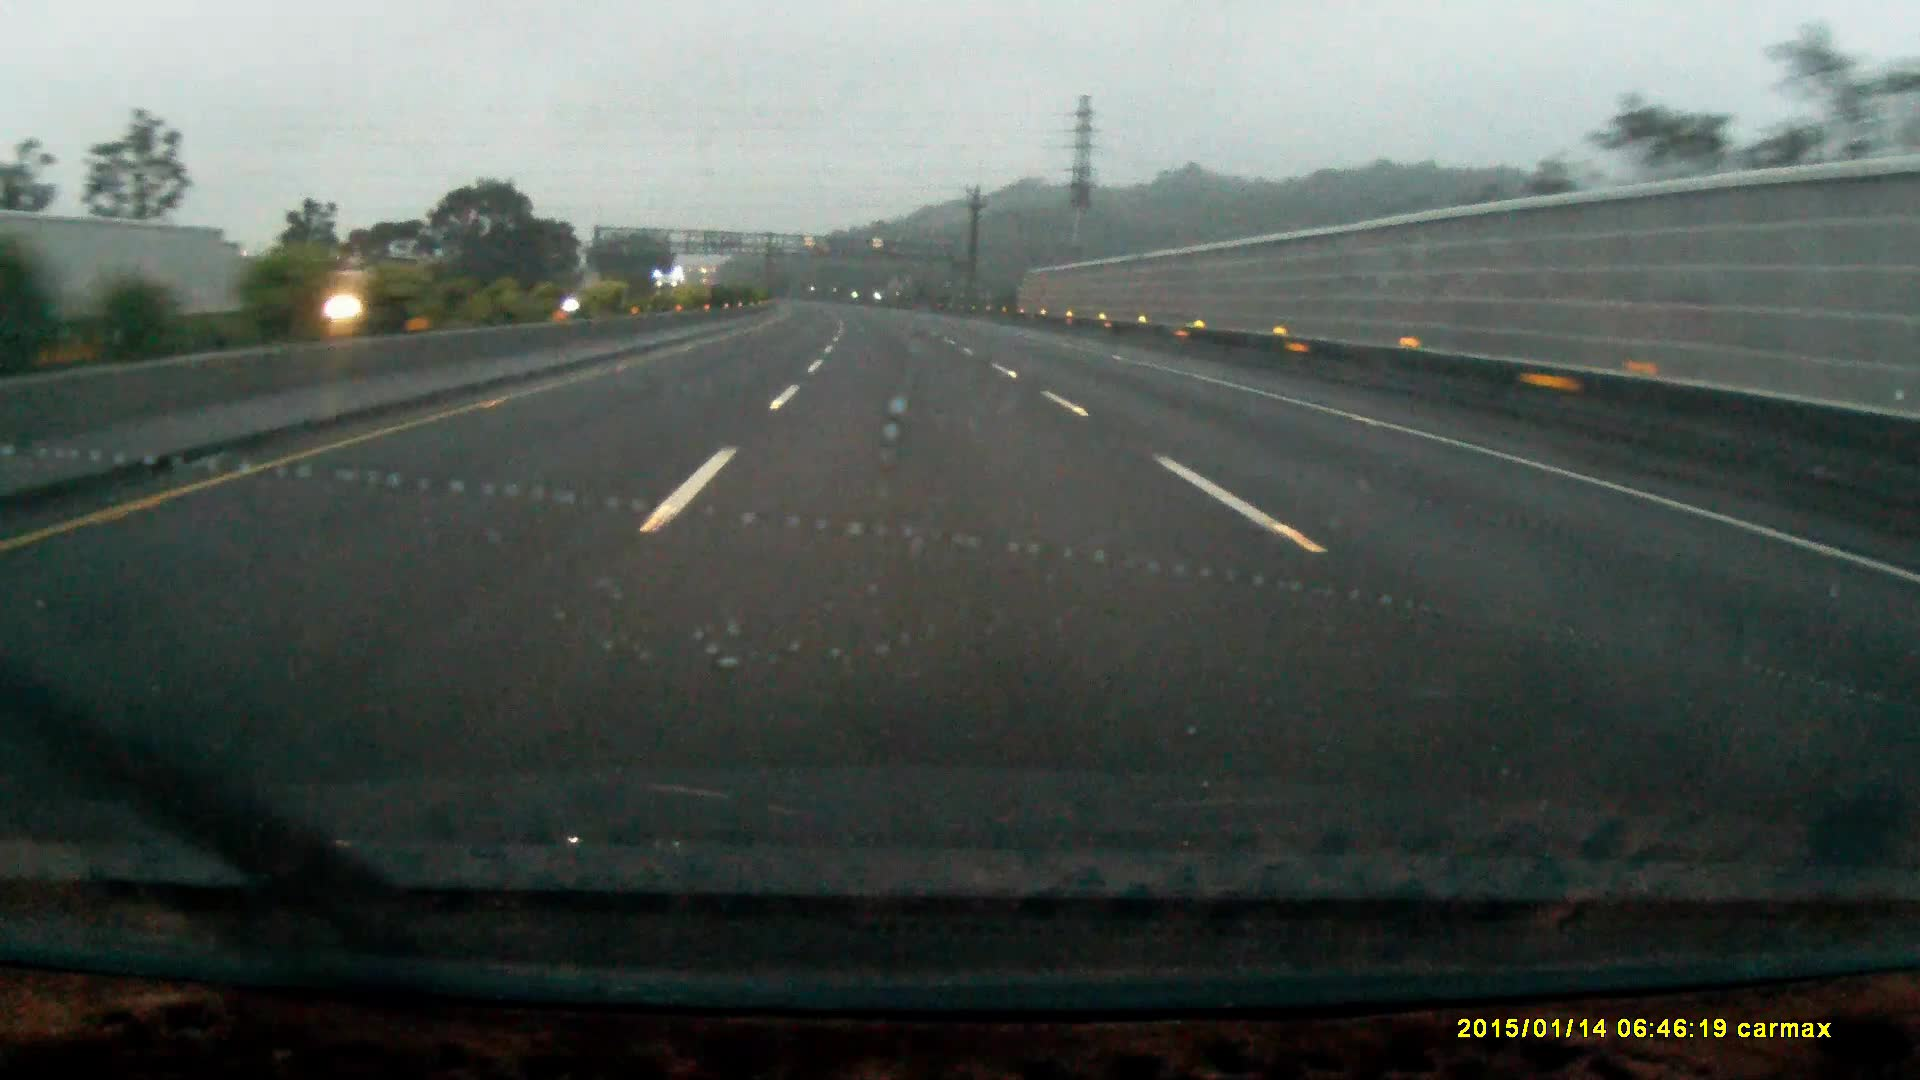vehicle: (654, 266, 694, 305)
